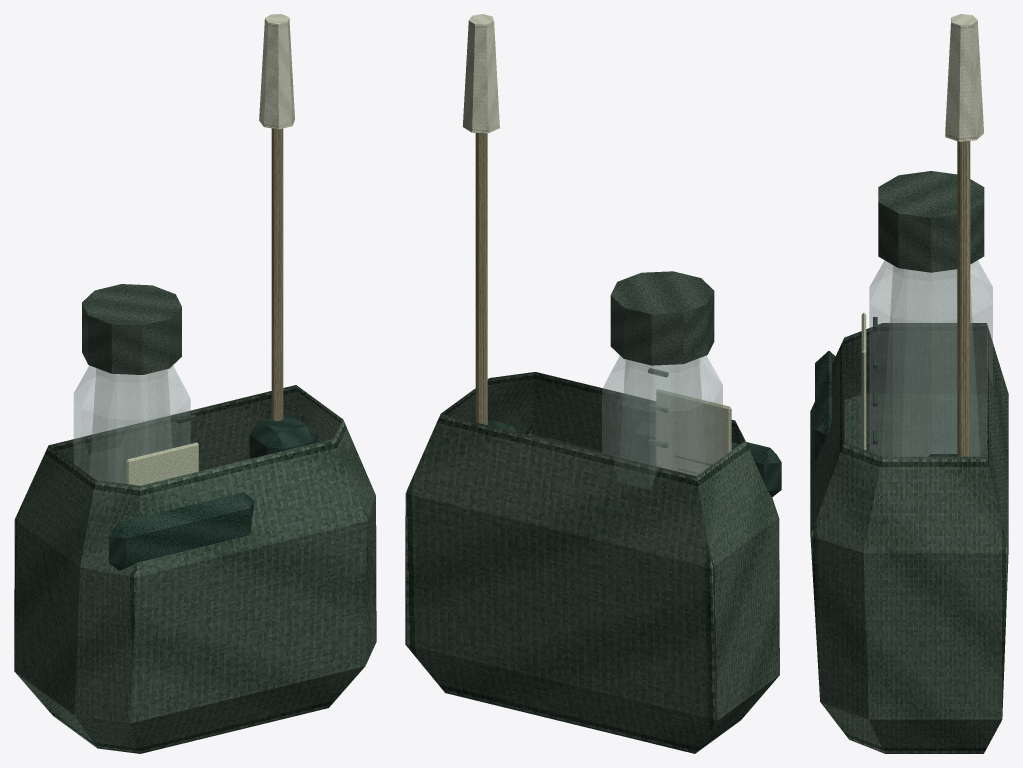
Rendered from blender_ectoplasm_sampler_2.glb.
The picture shows the model from 3 angles, left to right: view 1: azimuth 30°, elevation 25°; view 2: azimuth 150°, elevation 25°; view 3: azimuth 270°, elevation 25°; orthographic projection. The views are drawn at different scales.
Visible parts, largest first — view 1: blender_ectoplasm_sampler_2; view 2: blender_ectoplasm_sampler_2; view 3: blender_ectoplasm_sampler_2.
Part boxes in pixels (x1=…): blender_ectoplasm_sampler_2: x1=14, y1=14, x2=376, y2=753; blender_ectoplasm_sampler_2: x1=405, y1=14, x2=781, y2=753; blender_ectoplasm_sampler_2: x1=810, y1=14, x2=1008, y2=753.
Size of the model in its own units: 0.083 by 0.171 by 0.0426.
Materials: 7 (7 with a texture image).
